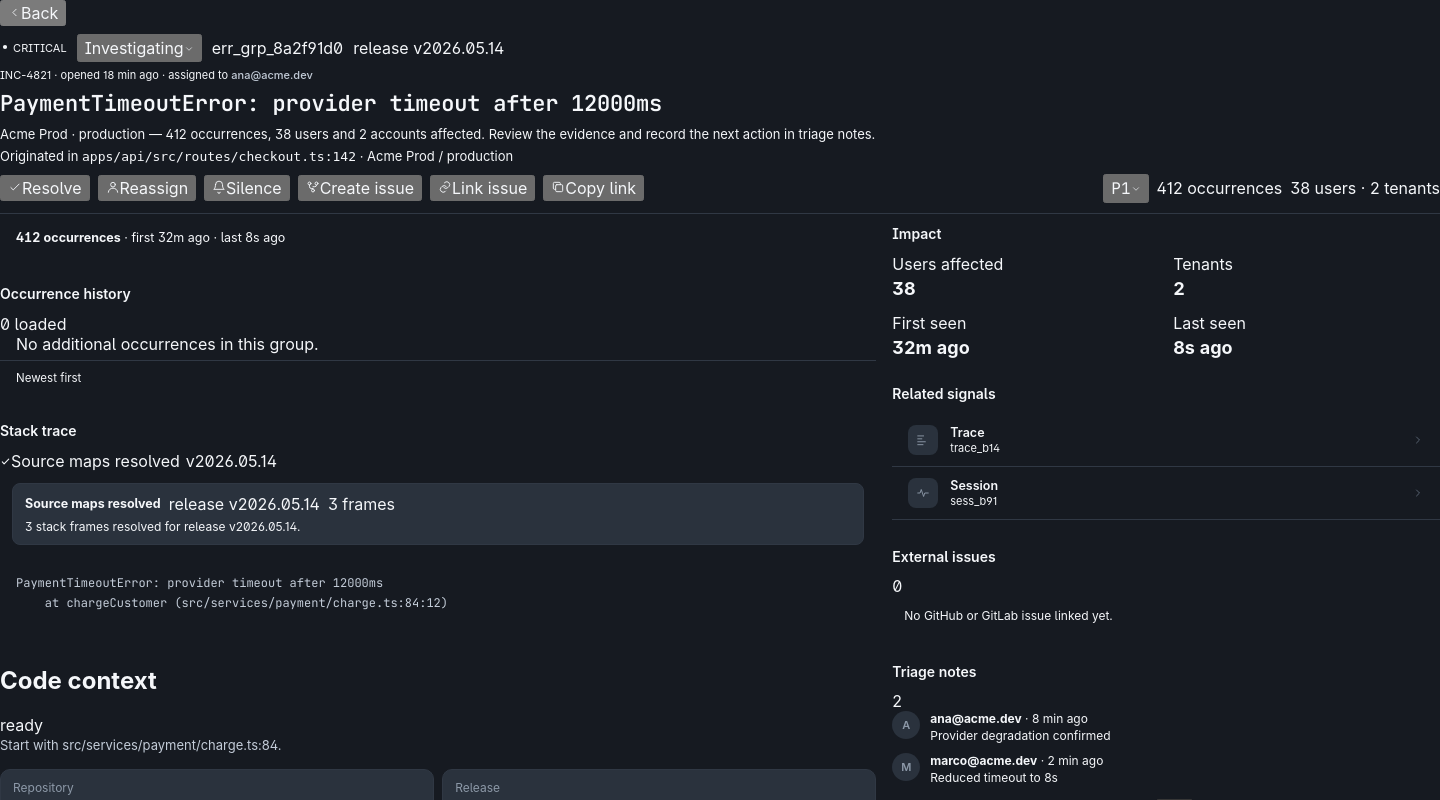
Test case: IncidentScreen › action bar — Link issue › opens a modal with title pre-filled
Click the button "Link issue" at (483, 188), box [430,175,535,201]
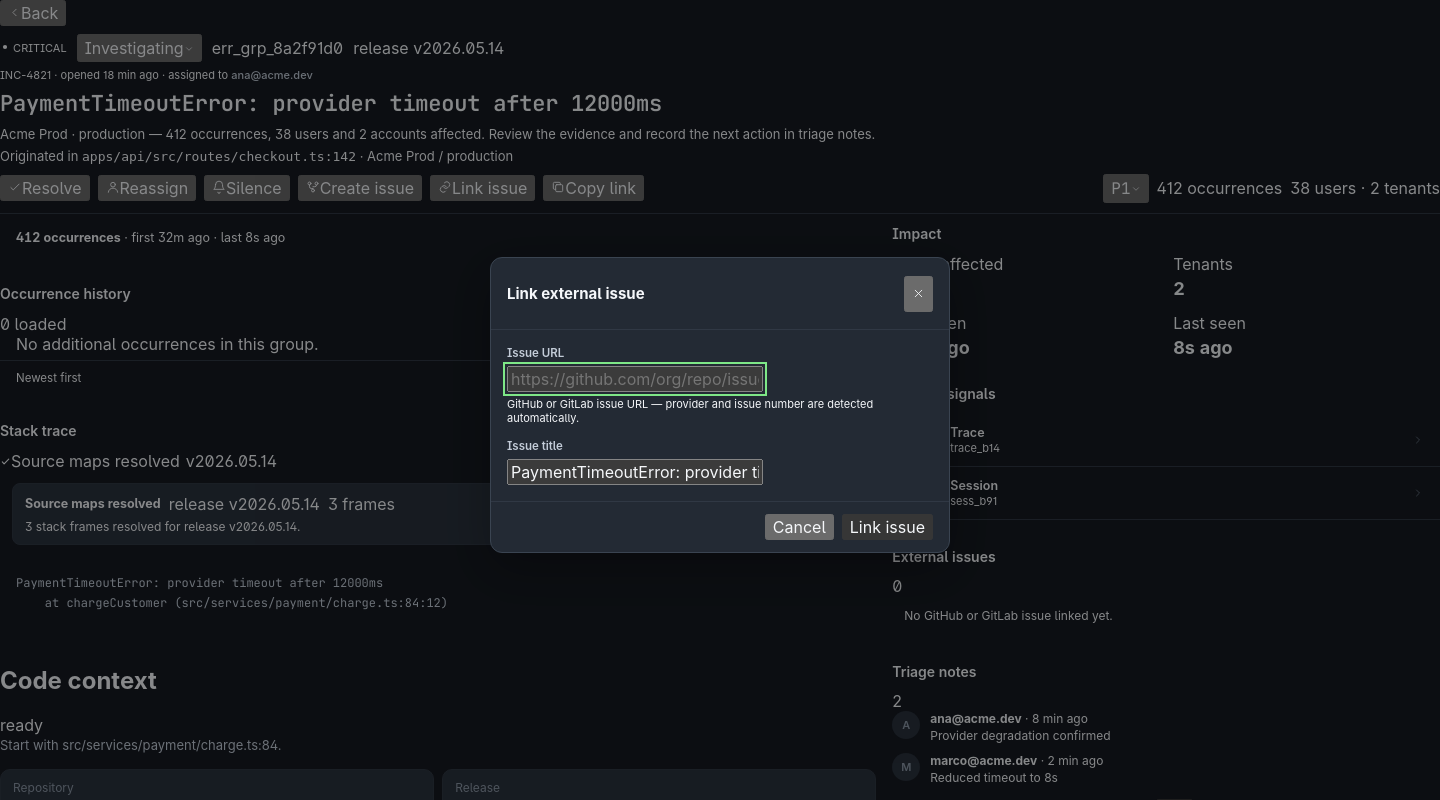
Check: the dialog "Link external issue" is shown, box [490,257,950,554]
Check: the field showing "PaymentTimeoutError: provider timeout after 12000ms" is shown, box [507,459,763,485]
